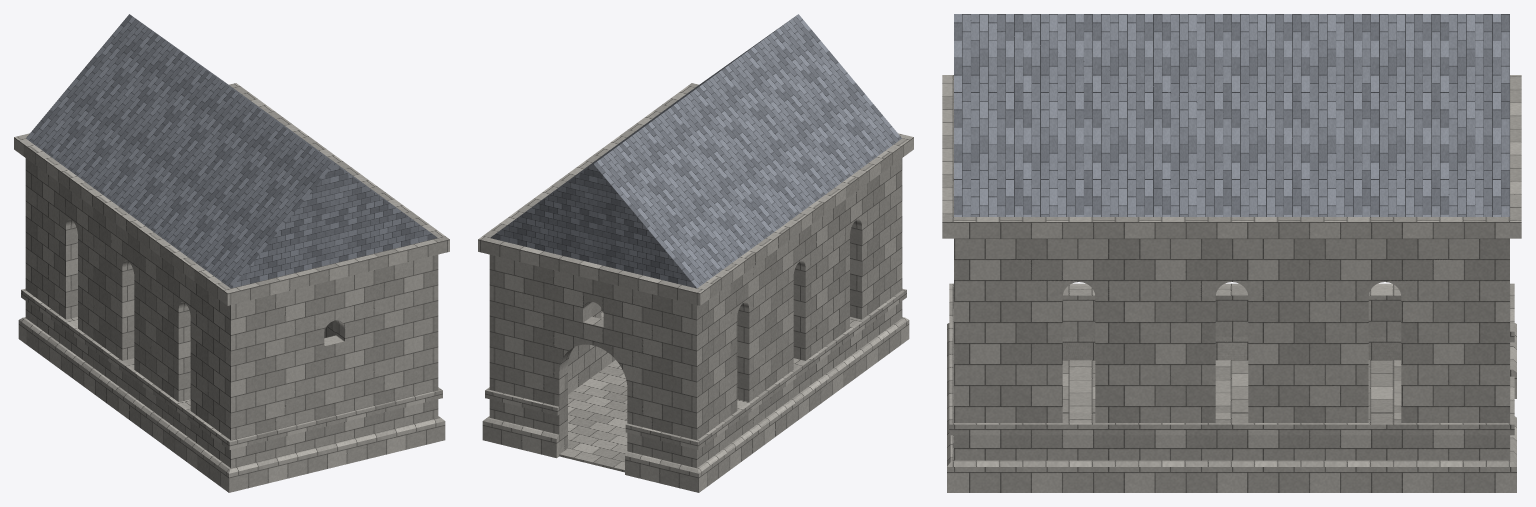
File: chapel.glb
3 renders of one model, left to right at view 1: azimuth 30°, elevation 25°; view 2: azimuth 150°, elevation 25°; view 3: azimuth 270°, elevation 25°, orthographic. The views are drawn at different scales.
Visible parts, largest first — view 1: body_stone, roof_slate, trim_stone; view 2: body_stone, roof_slate, trim_stone; view 3: body_stone, roof_slate, trim_stone.
Part boxes in pixels (x1,y1,x2,y2): body_stone: (25, 158, 438, 468); roof_slate: (26, 14, 437, 288); trim_stone: (14, 83, 449, 492); body_stone: (489, 158, 902, 472); roof_slate: (490, 14, 901, 288); trim_stone: (478, 83, 913, 492); body_stone: (954, 238, 1509, 460); roof_slate: (954, 14, 1509, 216); trim_stone: (942, 75, 1521, 492).
Bounding box in the file's own units: 7.5 × 9.7 × 12.5.
Materials: 3 (3 with a texture image).
